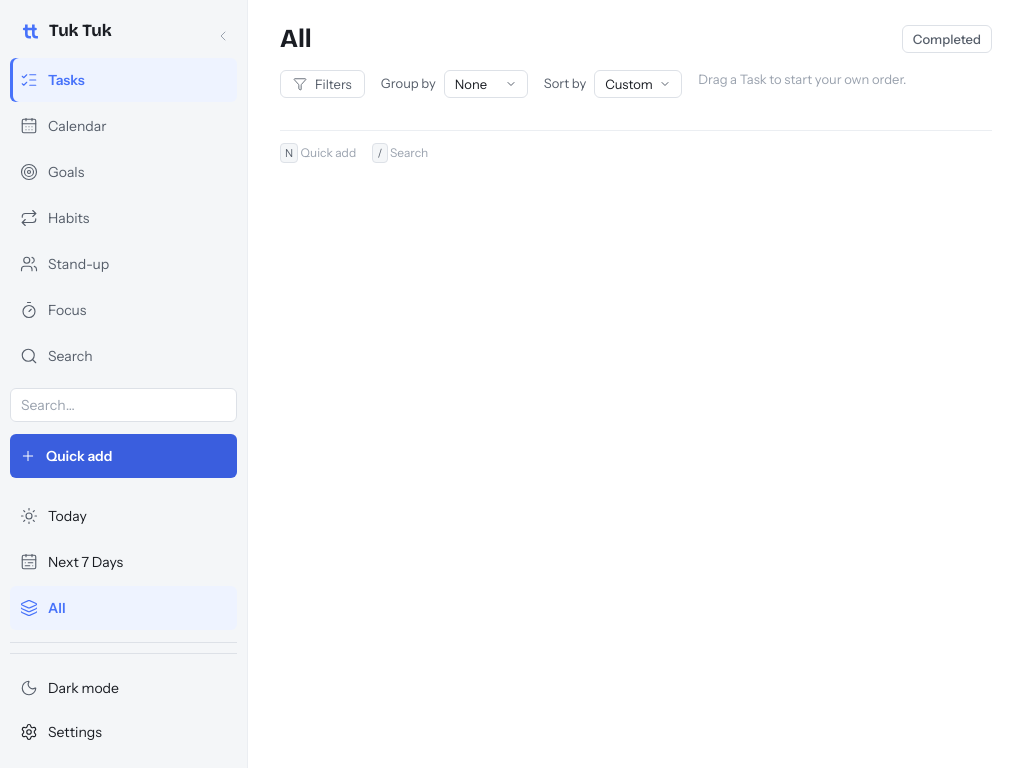
it: The Month view › navigates previous / next / today
Click the link "Calendar" at (63, 126), box [20, 116, 106, 135]
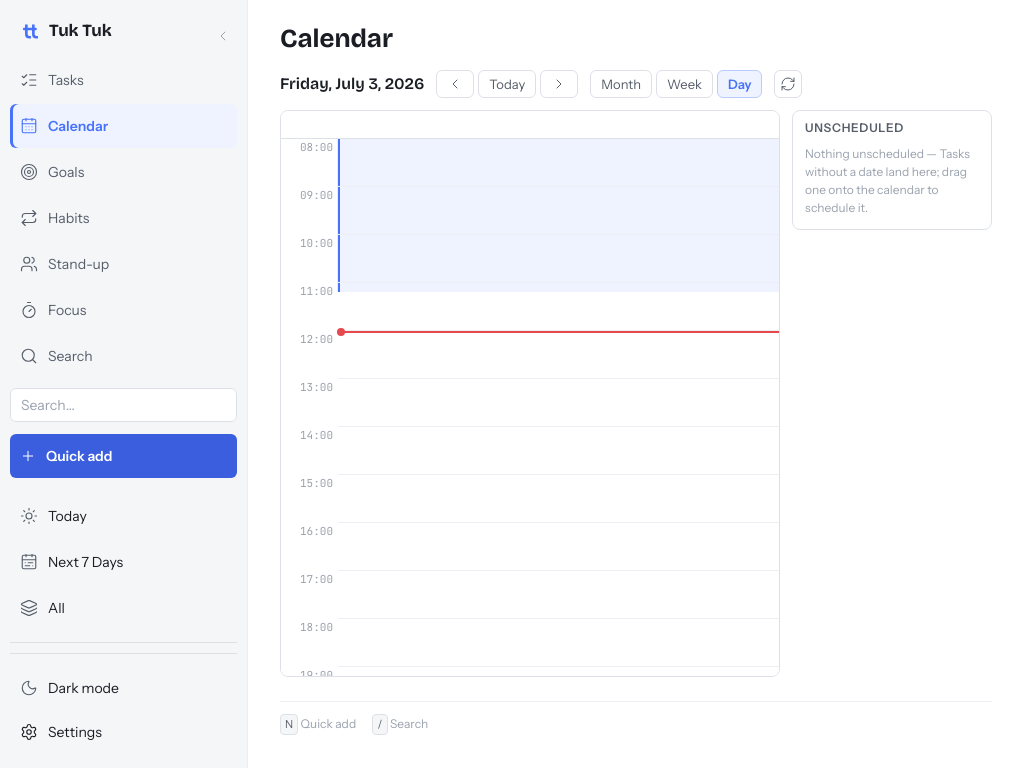
Expected: the heading "Friday, July 3, 2026" is shown, [280, 72, 424, 96]
Click the button "Month" at (621, 84), box [590, 70, 652, 98]
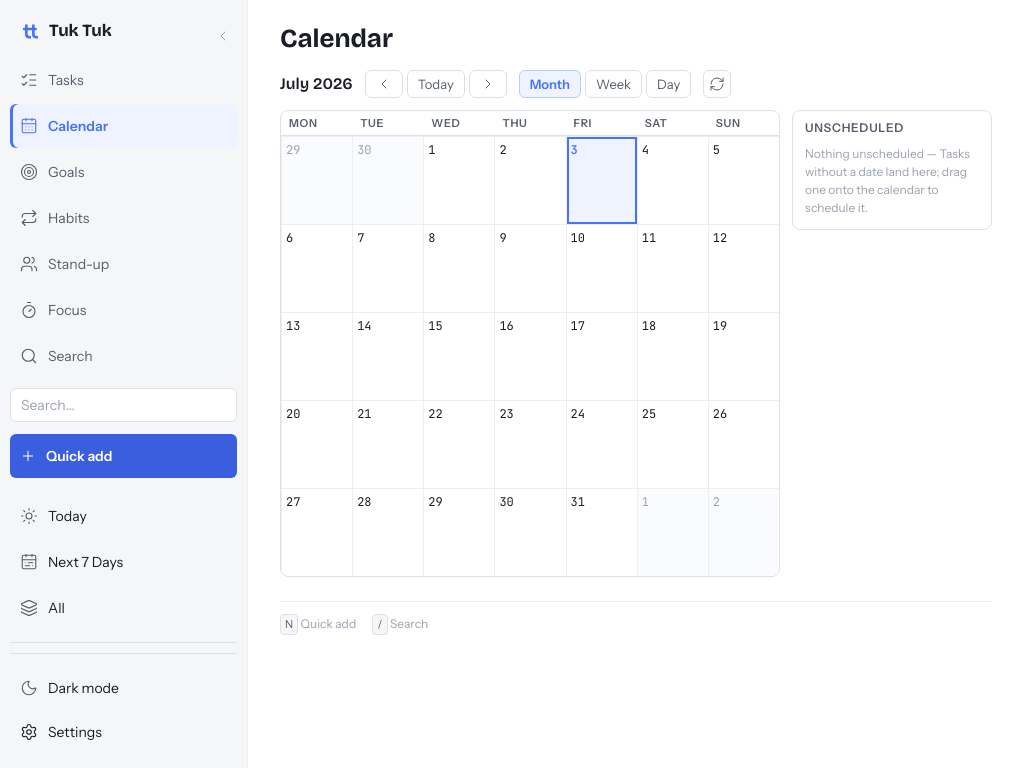
Expected: the heading "July 2026" is shown, [280, 72, 353, 96]
Click the button named "Next month" at (488, 84), box [469, 70, 507, 98]
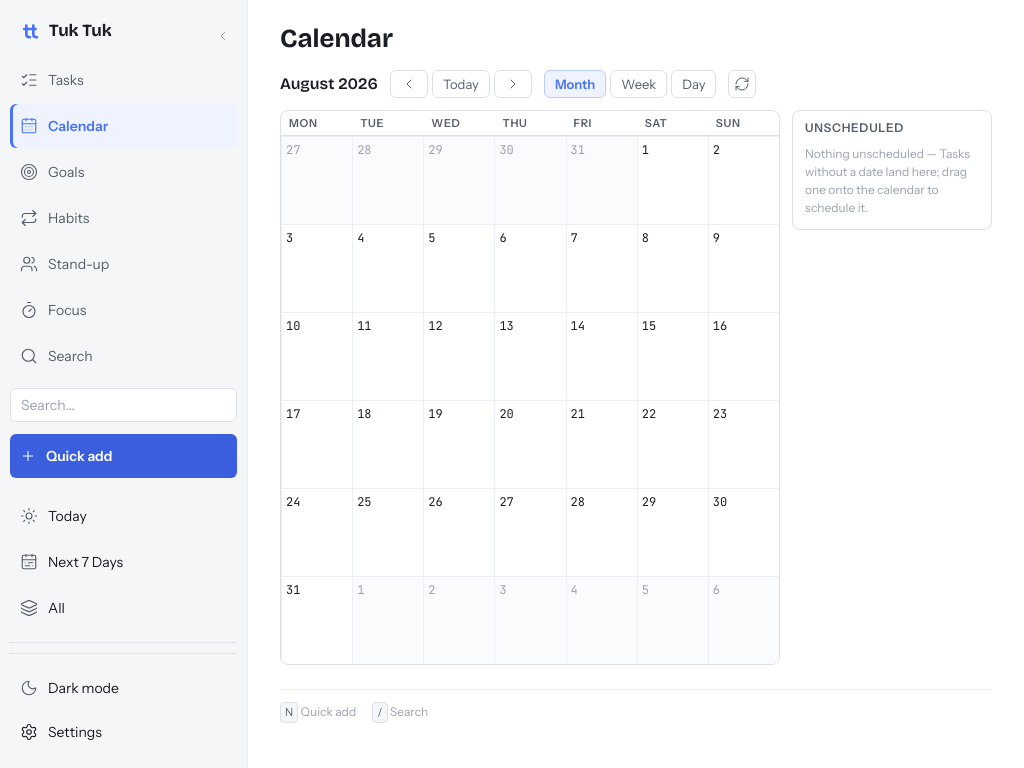
Expected: the heading "August 2026" is shown, [280, 72, 378, 96]
Click the button named "Previous month" at (409, 84), box [390, 70, 428, 98]
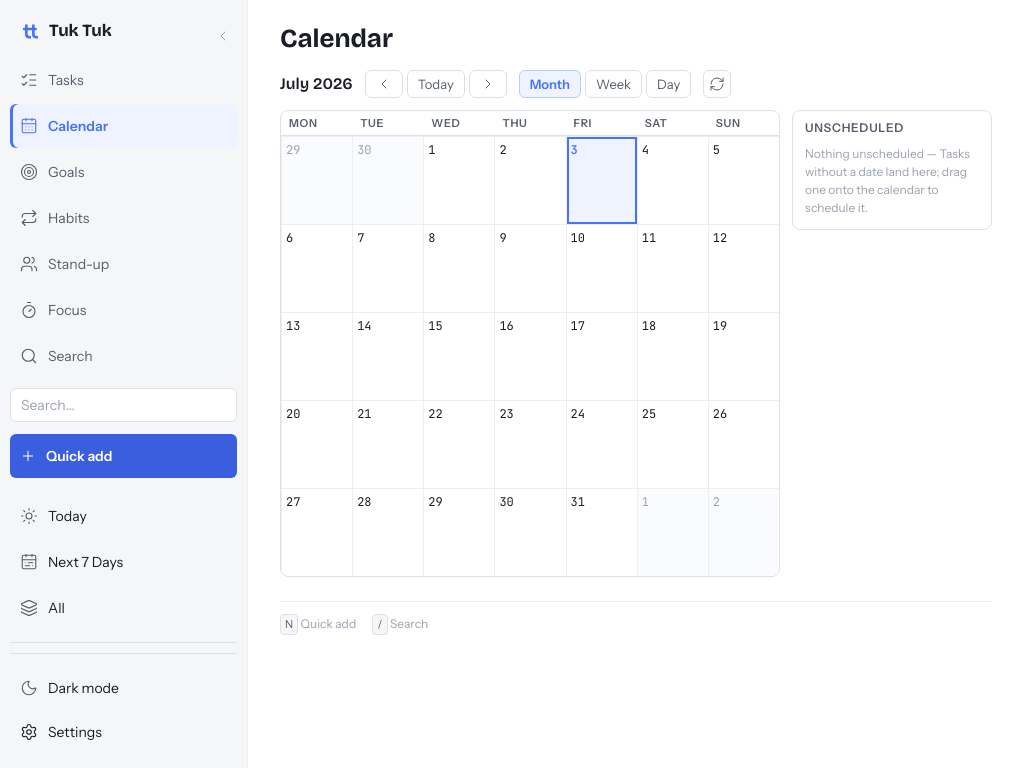
Expected: the heading "July 2026" is shown, [280, 72, 353, 96]
Click the button named "Next month" at (488, 84), box [469, 70, 507, 98]
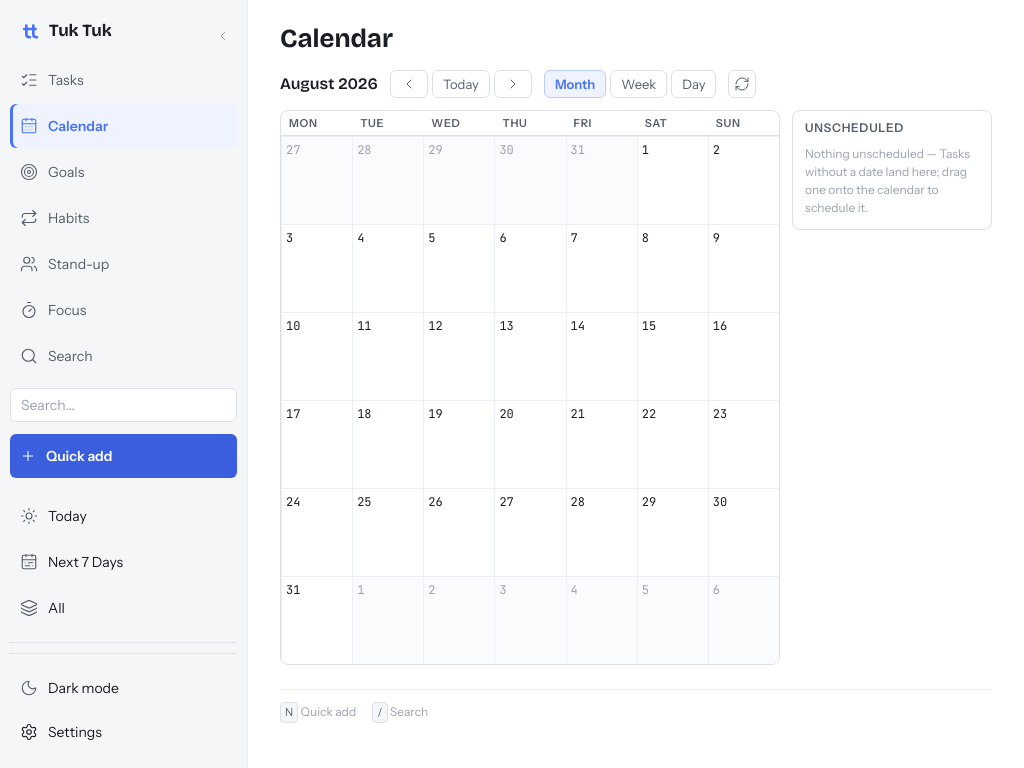
Click the button with aria-label "Go to today" at (461, 84), box [432, 70, 490, 98]
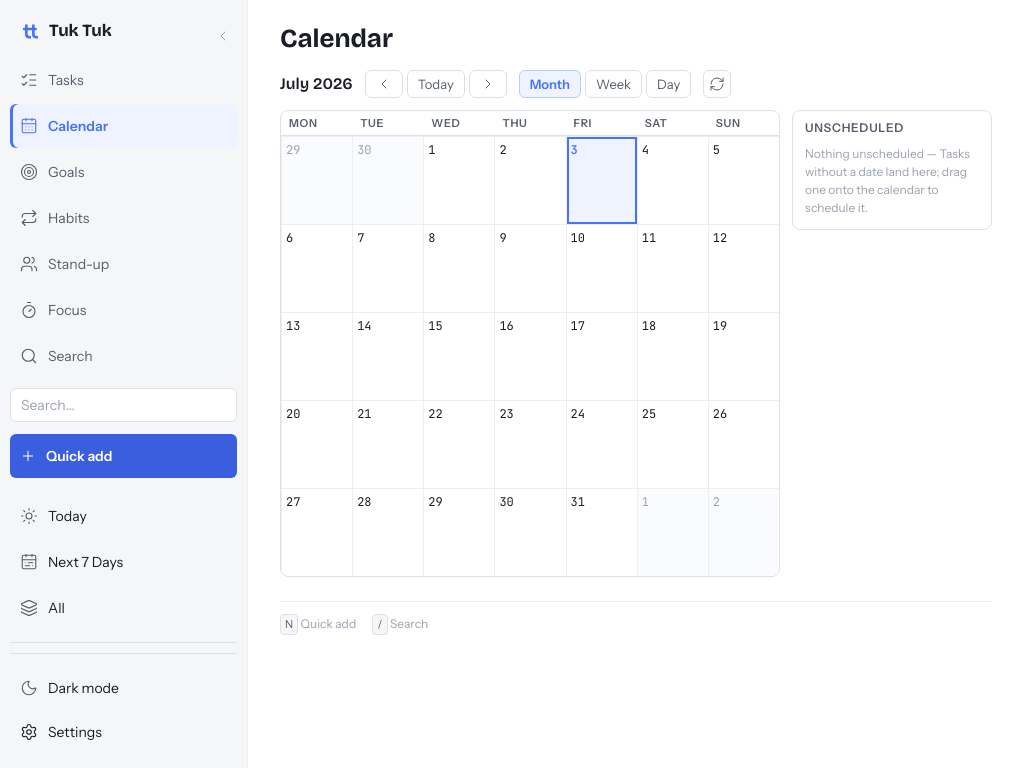
Expected: the heading "July 2026" is shown, [280, 72, 353, 96]
